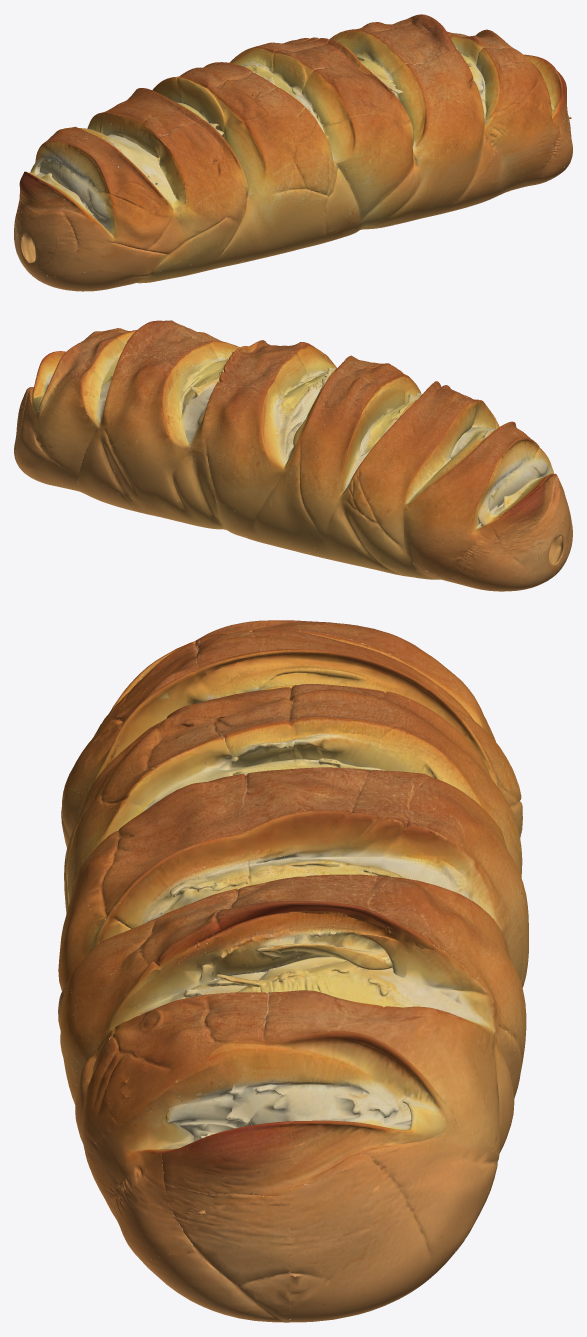
The model's file is bread.glb.
3 renders of one model, top to bottom at view 1: azimuth 30°, elevation 25°; view 2: azimuth 150°, elevation 25°; view 3: azimuth 270°, elevation 25°, orthographic. The views are drawn at different scales.
Visible parts, largest first — view 1: tripo_node_0e6e31bd-7318-483c-91df-c36474d0471f; view 2: tripo_node_0e6e31bd-7318-483c-91df-c36474d0471f; view 3: tripo_node_0e6e31bd-7318-483c-91df-c36474d0471f.
Part boxes in pixels (x1=…): tripo_node_0e6e31bd-7318-483c-91df-c36474d0471f: x1=14, y1=14, x2=572, y2=291; tripo_node_0e6e31bd-7318-483c-91df-c36474d0471f: x1=14, y1=320, x2=572, y2=591; tripo_node_0e6e31bd-7318-483c-91df-c36474d0471f: x1=58, y1=620, x2=528, y2=1322.
Size of the model in its own units: 0.984 by 0.2913 by 0.3777.
1 material, 1 textured.
